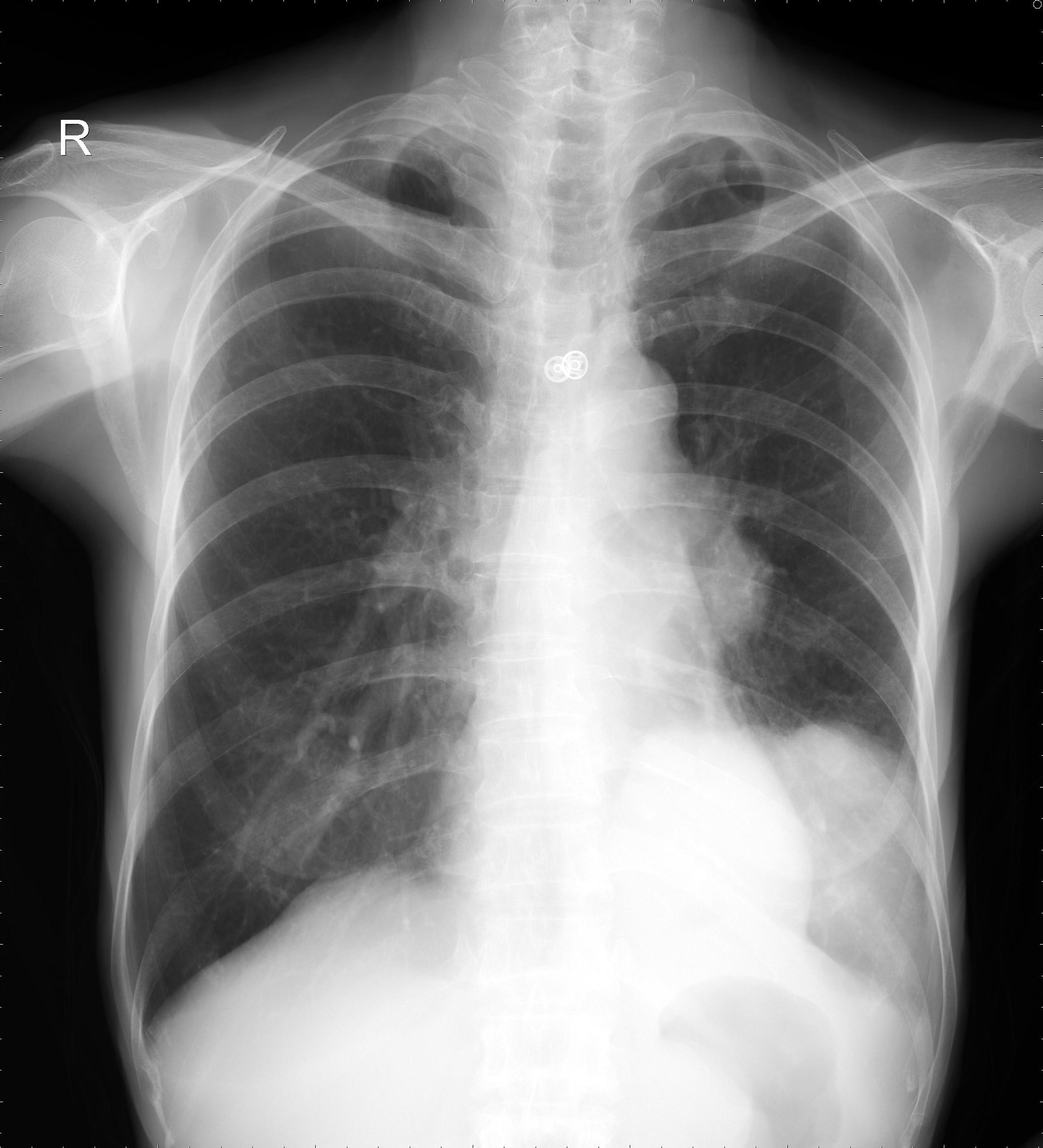Pleural thickening: (322, 119, 460, 165)
Pulmonary fibrosis: (730, 151, 760, 180)
